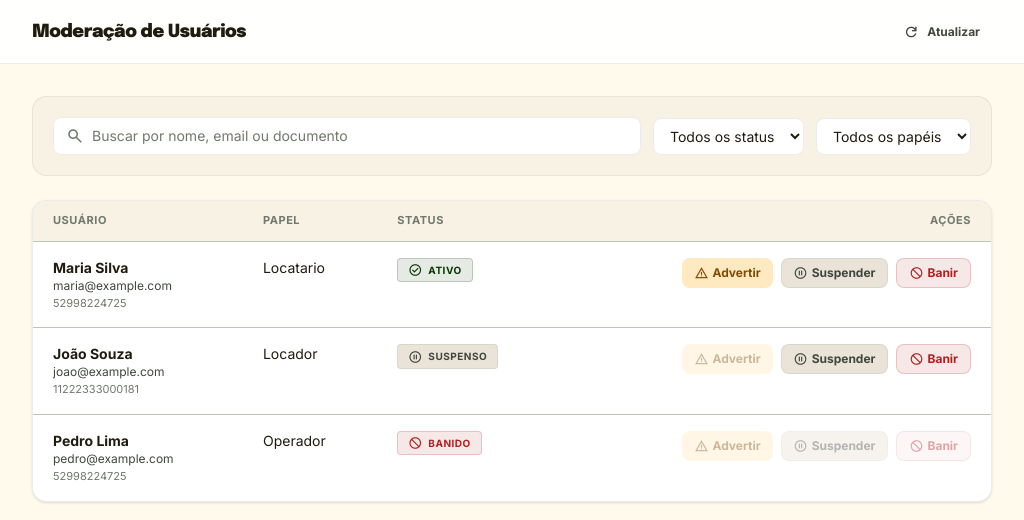
finds users by name, e-mail or document and filters by status and role
Check: the text "Maria Silva" is shown, box [53,259,128,276]
Type "11222333" into the field with placeholder "Buscar por nome, email ou documento" at (360, 136), box [92,126,628,146]
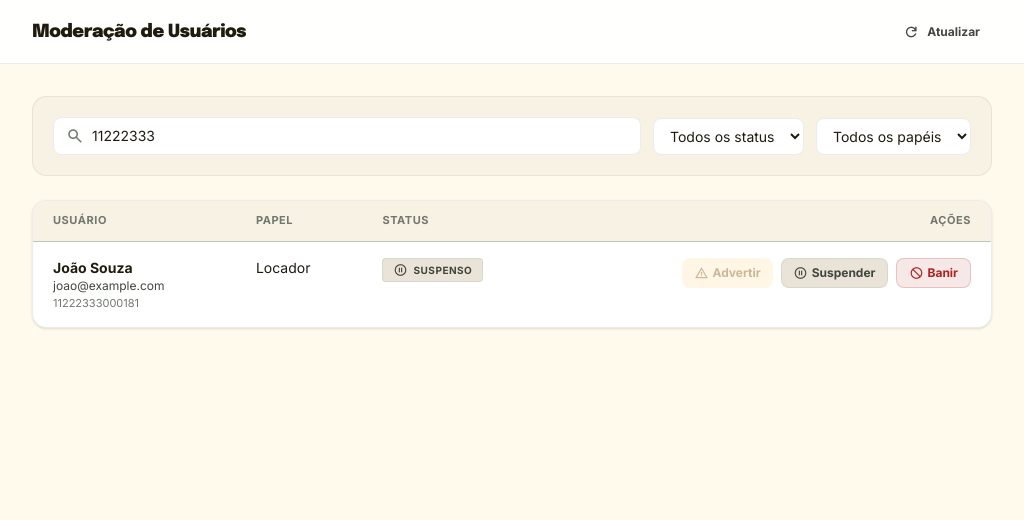
Check: the text "João Souza" is shown, box [53,259,133,276]
Check: the number of rows is 2, box [33,201,991,241]; [33,241,991,327]
Clear the field with placeholder "Buscar por nome, email ou documento" at (360, 136), box [92,126,628,146]
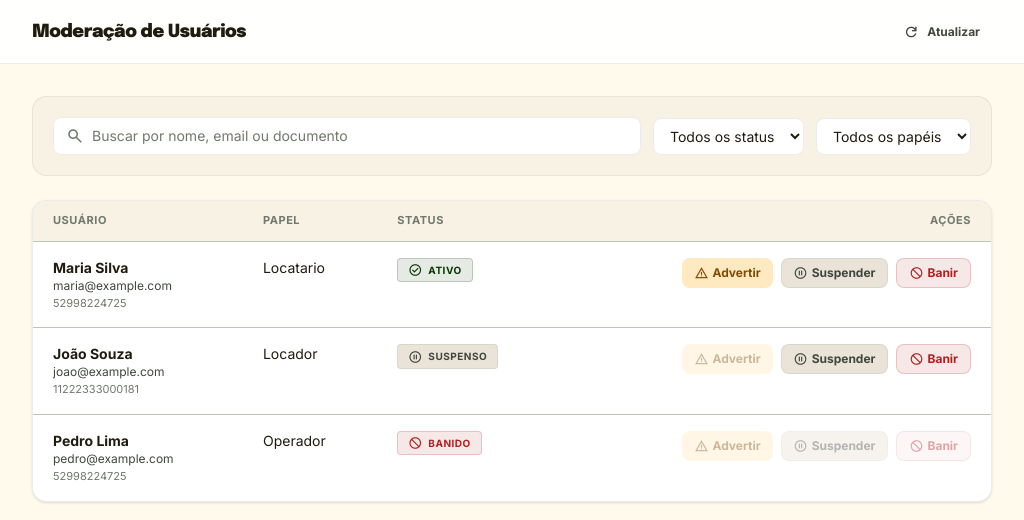
Select "Banidos" in the 1st dropdown at (728, 136), box [653,118,804,154]
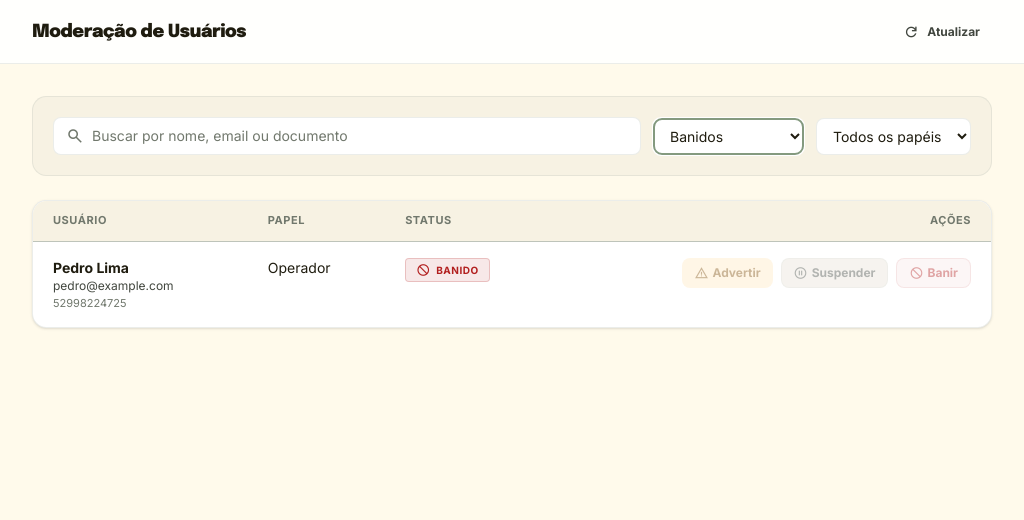
Check: the text "Pedro Lima" is shown, box [53,259,129,276]
Select "Locador" in the 2nd dropdown at (894, 136), box [816,118,971,154]
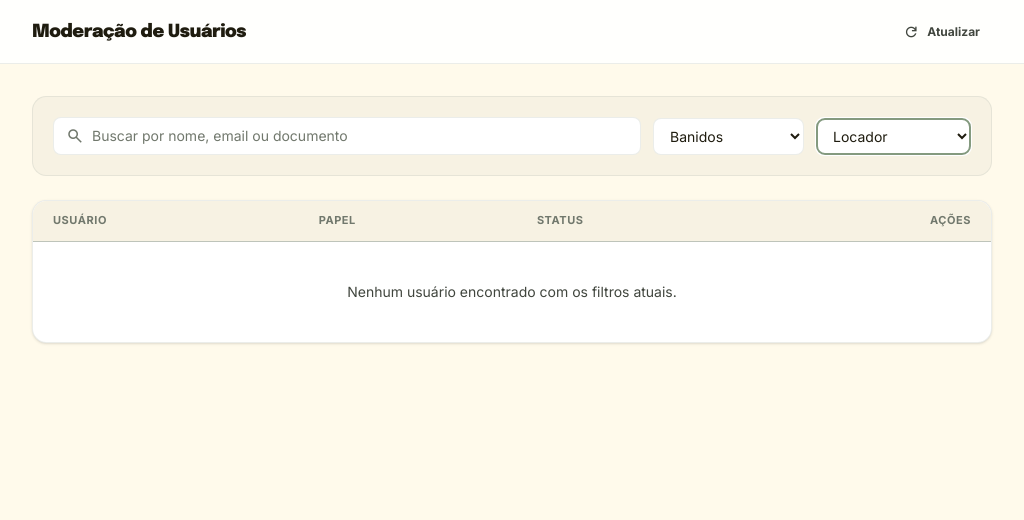
Check: the text "Nenhum usuário encontrado com os filtros atuais." is shown, box [33,241,991,342]
